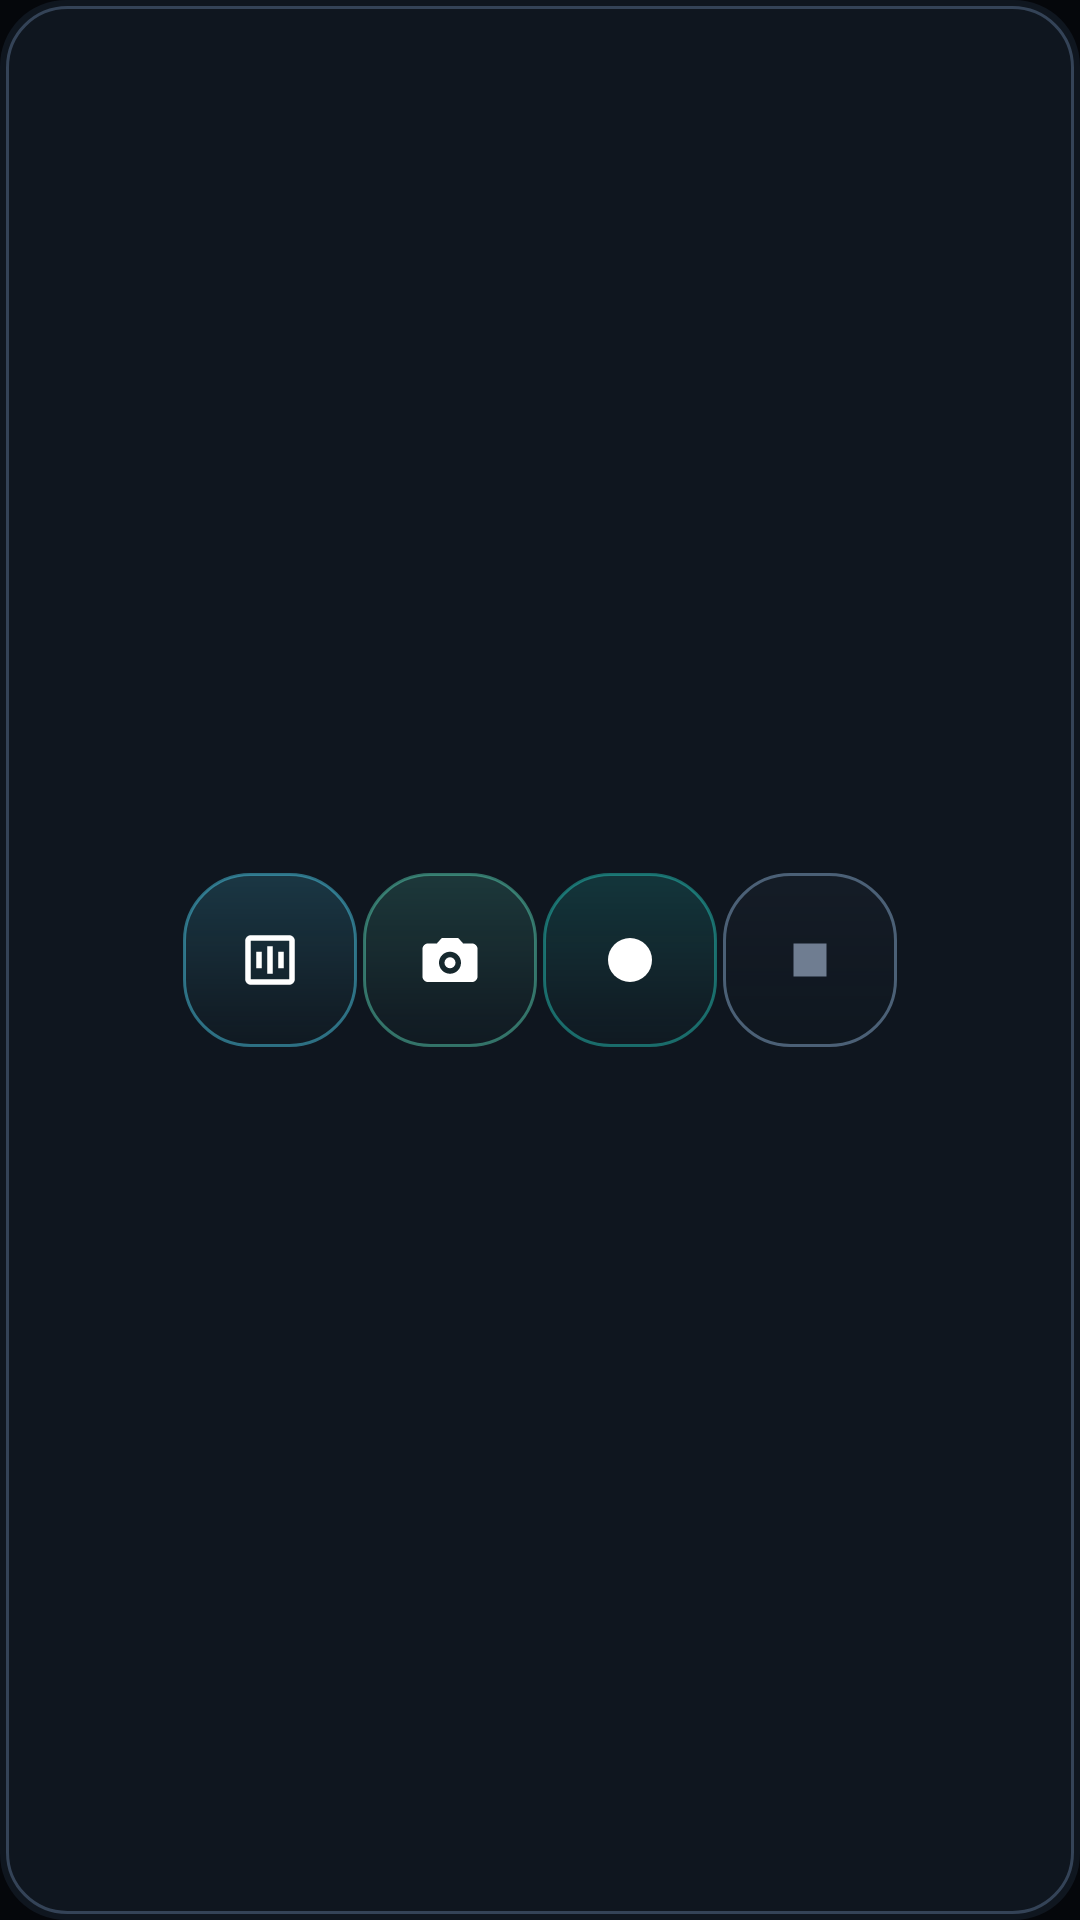

Screen size 1080 x 1920. Icon name, then its center in pixels as (x,y):
camera: (450,960)
Gravar: (630,960)
Parar: (810,960)
Sequência: (270,960)
